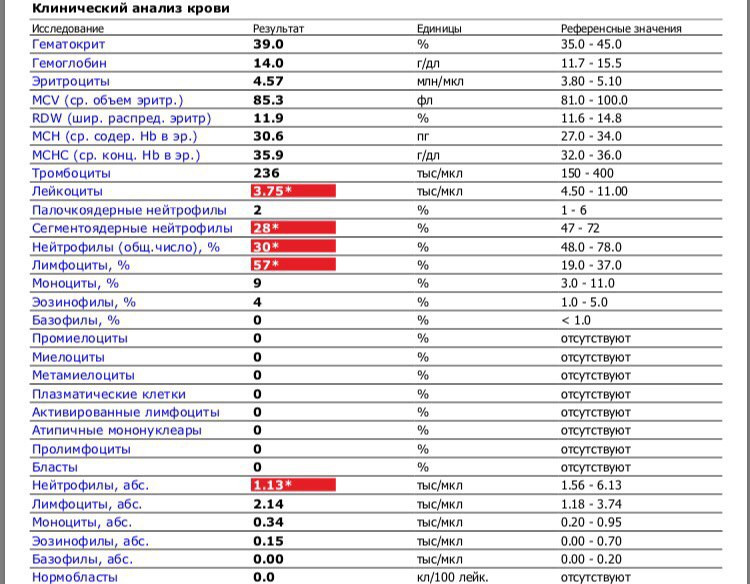column: (31, 19, 233, 584), (559, 19, 682, 584), (416, 19, 489, 584), (252, 19, 305, 584)
